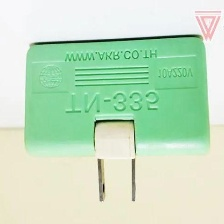three_eye_plug: (19, 32, 213, 209)
